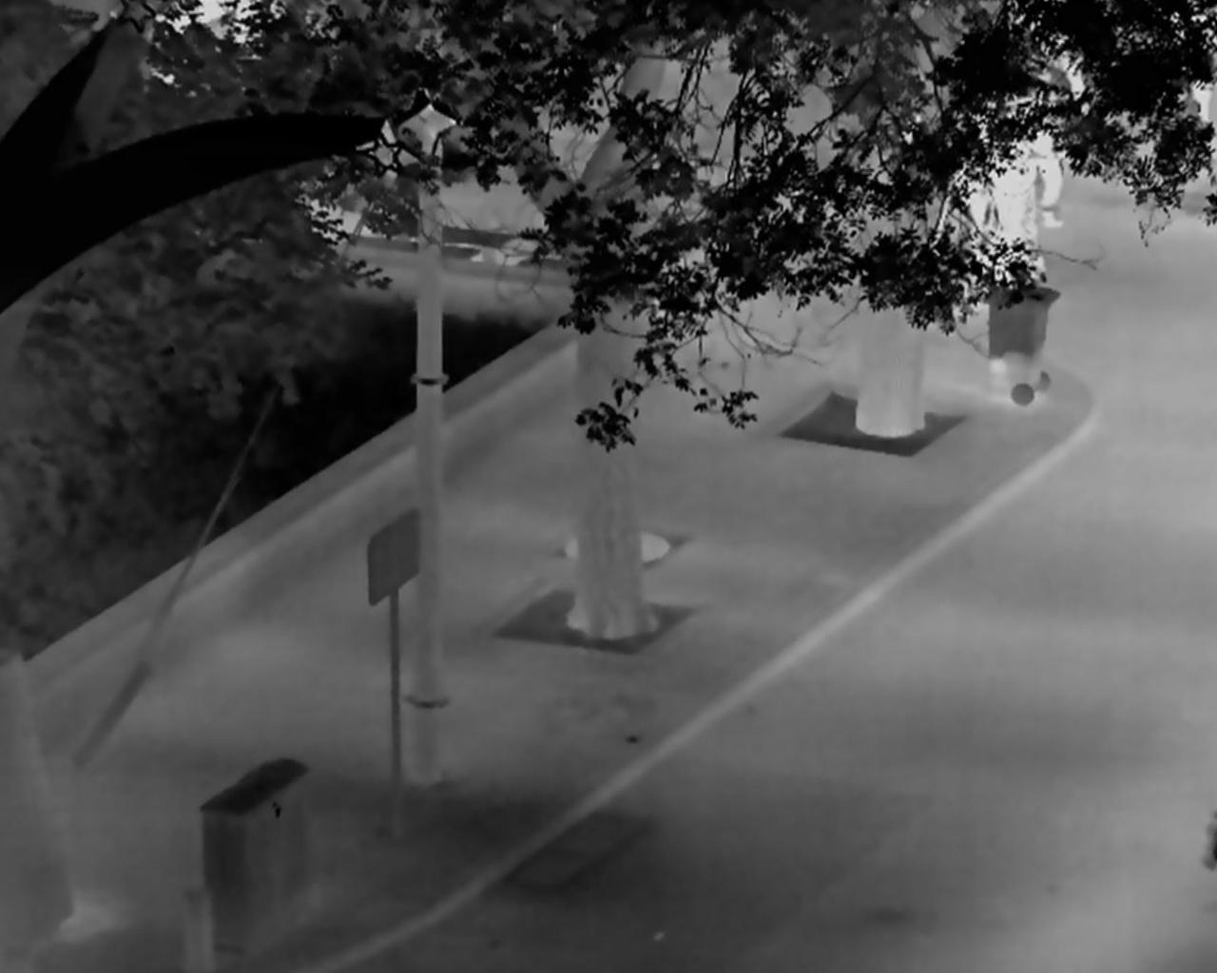person: (991, 119, 1044, 292), (940, 119, 987, 292), (1011, 102, 1070, 232)
